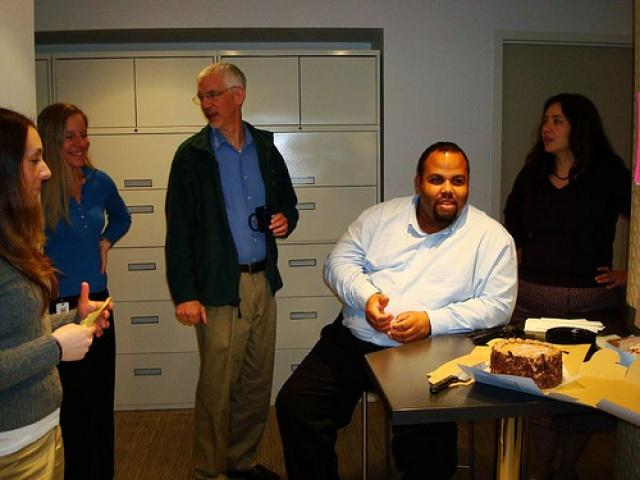Filing Cabinet: (246, 126, 380, 405), (84, 130, 200, 409)
